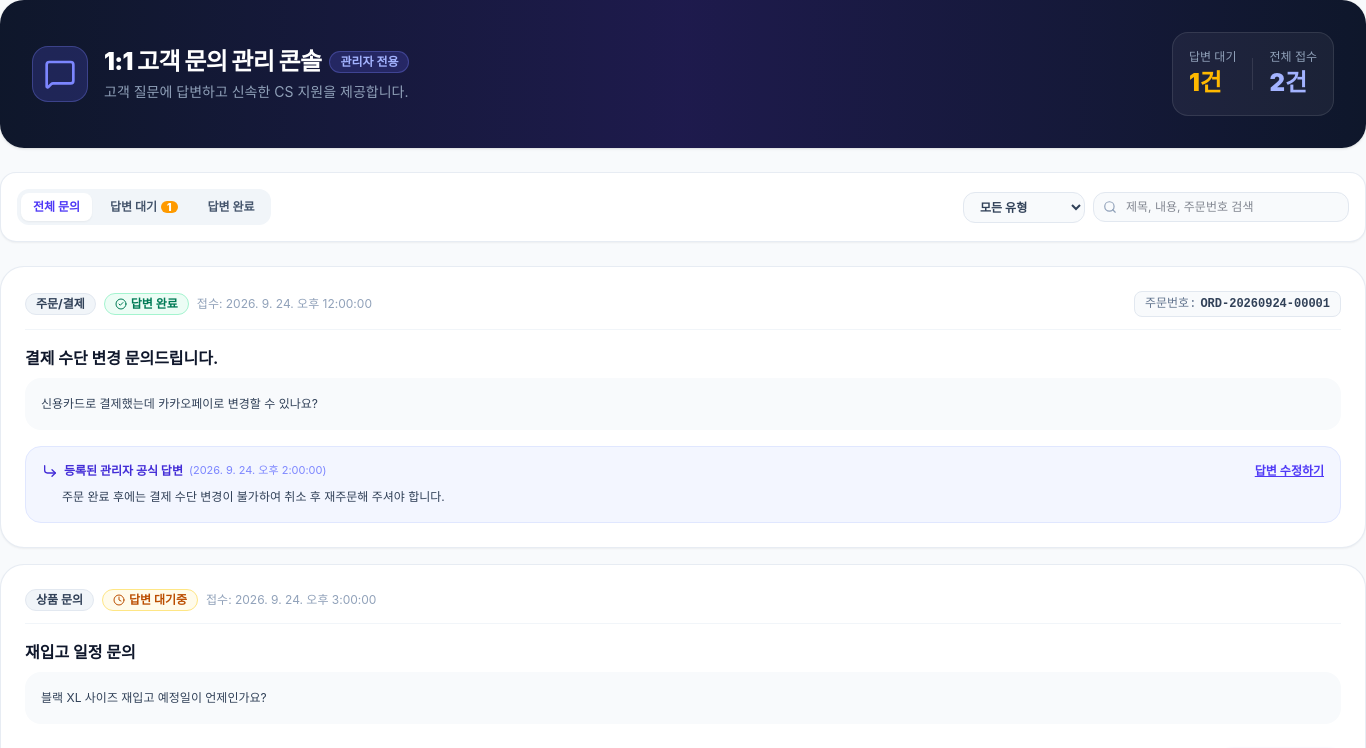
Test: AdminInquiriesViewer Component › 상태 탭 필터링(답변 대기 클릭 시 대기 건만 표시)이 작동한다
Click the button "답변 대기1".
click(144, 207)  # box [98,193,190,221]
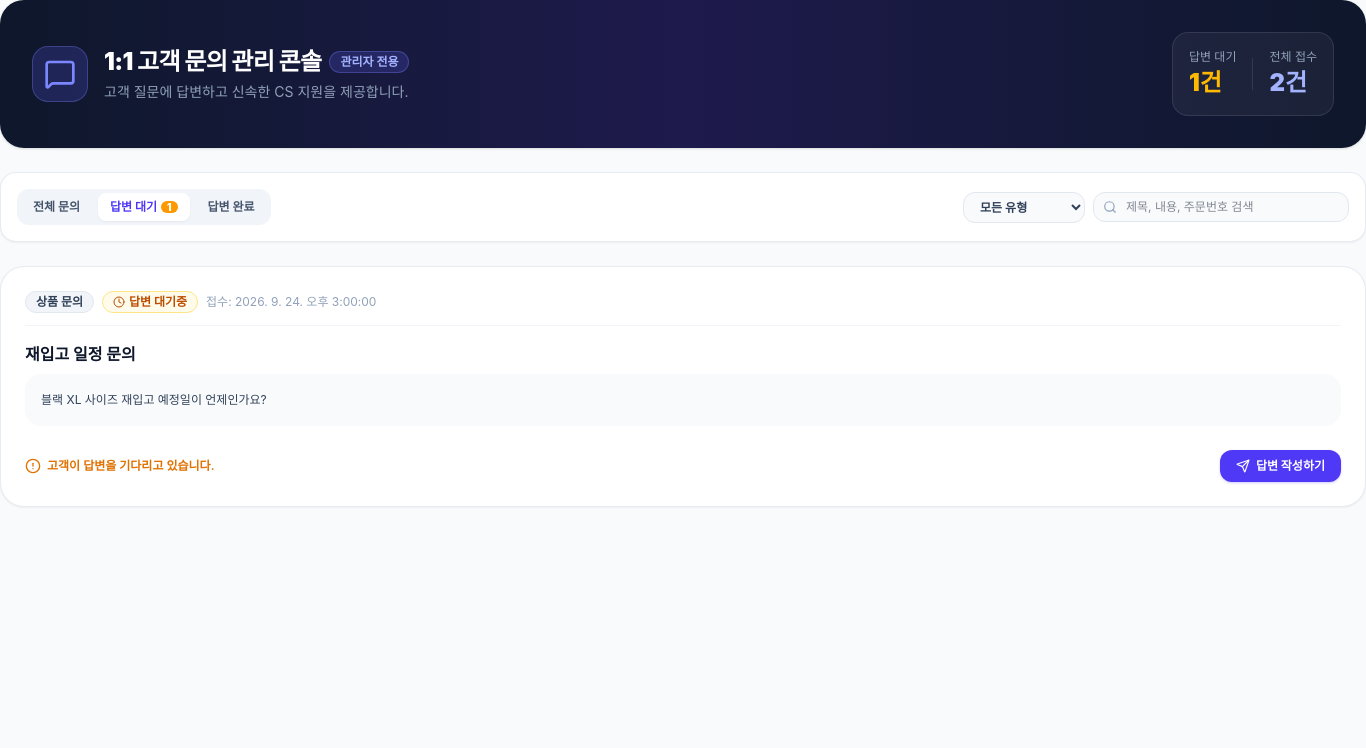
Expected: the heading "재입고 일정 문의" is shown, [25,344,136,364]
Result: the heading "결제 수단 변경 문의드립니다." is gone
